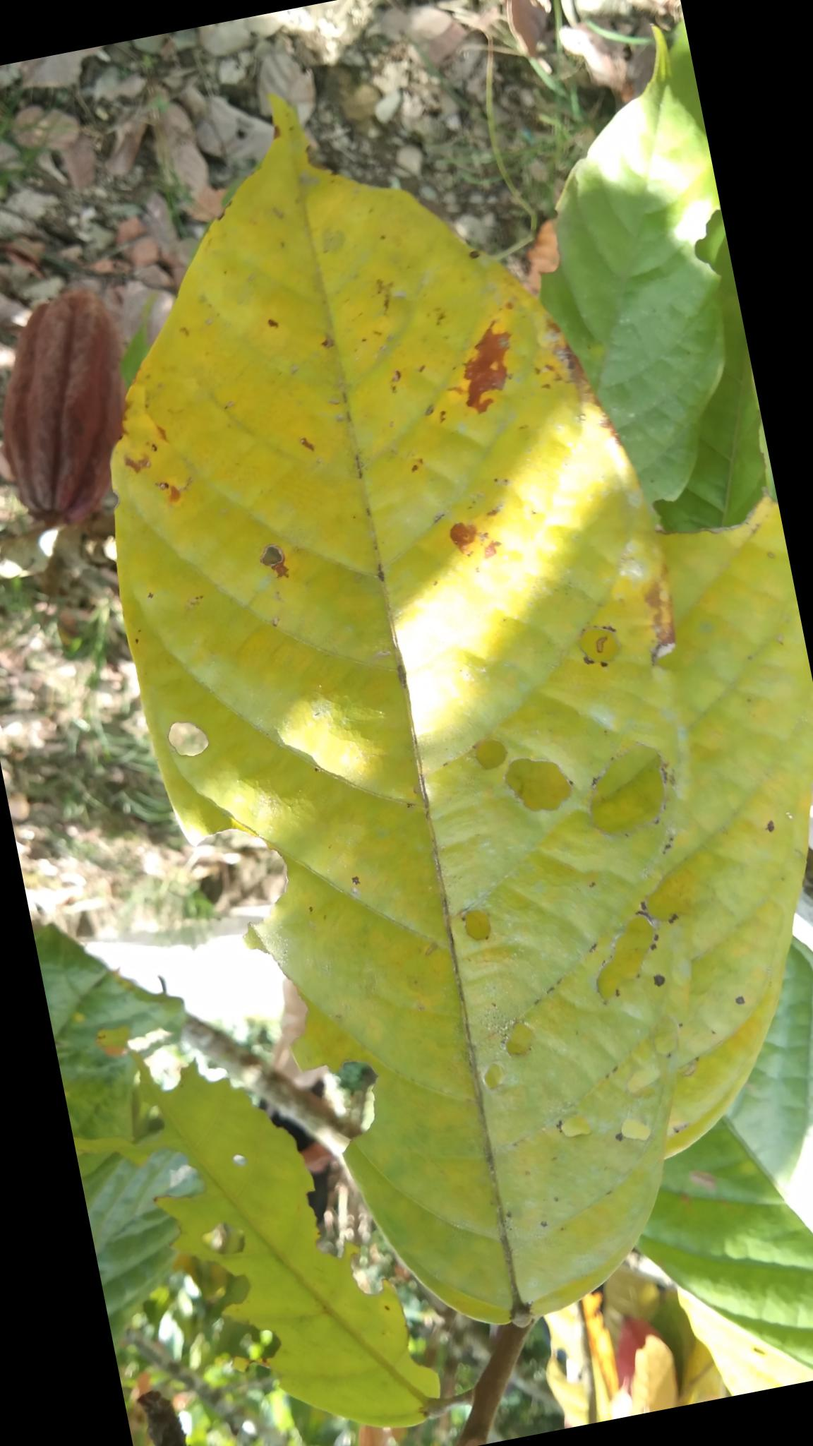Fosforo: (111, 92, 692, 1331)
